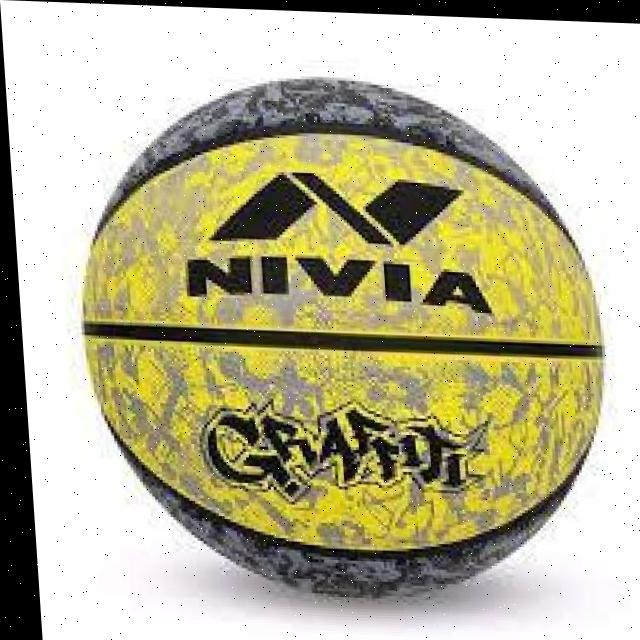Basketball: (63, 68, 620, 612)
